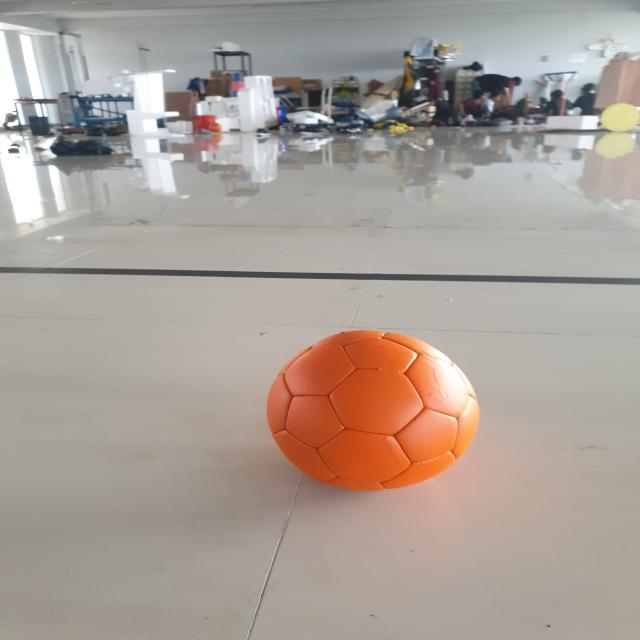bola: (252, 322, 489, 496)
